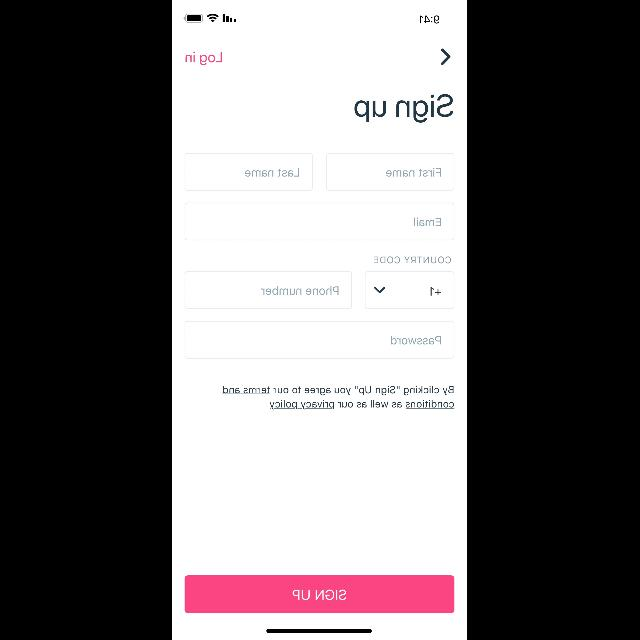icon: (442, 49, 451, 66), (374, 286, 386, 294)
input: (185, 203, 455, 241), (185, 321, 455, 359), (185, 271, 352, 309), (327, 153, 455, 191), (185, 153, 313, 191), (366, 271, 454, 309)
text: (223, 386, 455, 410), (356, 95, 454, 124), (261, 287, 339, 295), (374, 256, 452, 264), (186, 52, 222, 66), (386, 168, 442, 176), (246, 169, 300, 177), (392, 336, 442, 344), (414, 218, 442, 226), (431, 286, 441, 296)
textbutton: (185, 575, 455, 613)
uppertaskbar: (184, 14, 440, 24)
